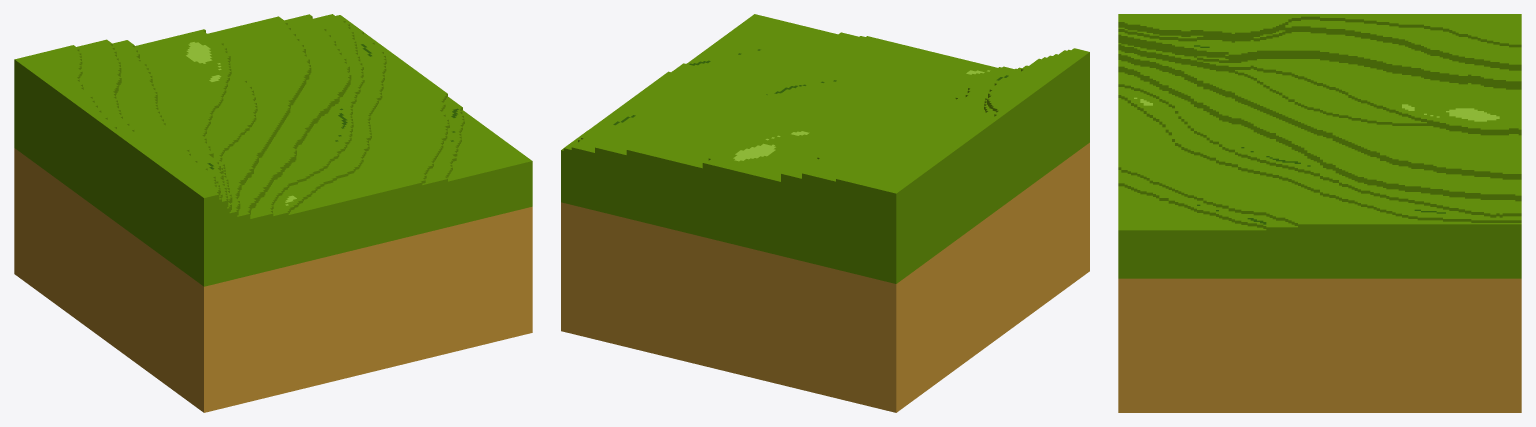
3 renders of one model, left to right at view 1: azimuth 30°, elevation 25°; view 2: azimuth 150°, elevation 25°; view 3: azimuth 270°, elevation 25°, orthographic. The views are drawn at different scales.
Visible parts, largest first — view 1: 11A; view 2: 11A; view 3: 11A.
Boxes of the visible parts, x1,y1,x2,y2 form: 11A: (14, 14, 532, 412); 11A: (561, 14, 1089, 412); 11A: (1118, 14, 1521, 412).
Size of the model in its own units: 12.8 by 8 by 12.8.
Materials: 1 (1 with a texture image).
